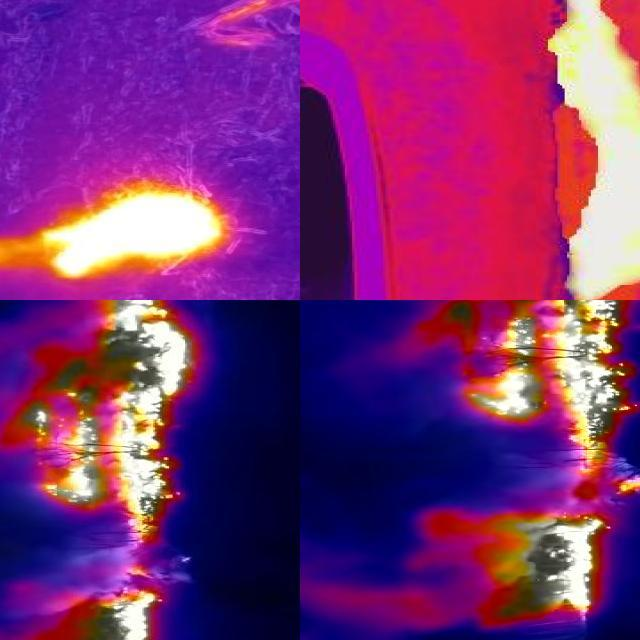fire: (1, 301, 207, 549), (530, 1, 640, 301), (439, 301, 640, 444), (435, 513, 608, 629), (30, 187, 226, 283), (40, 547, 187, 640), (548, 444, 640, 496)
